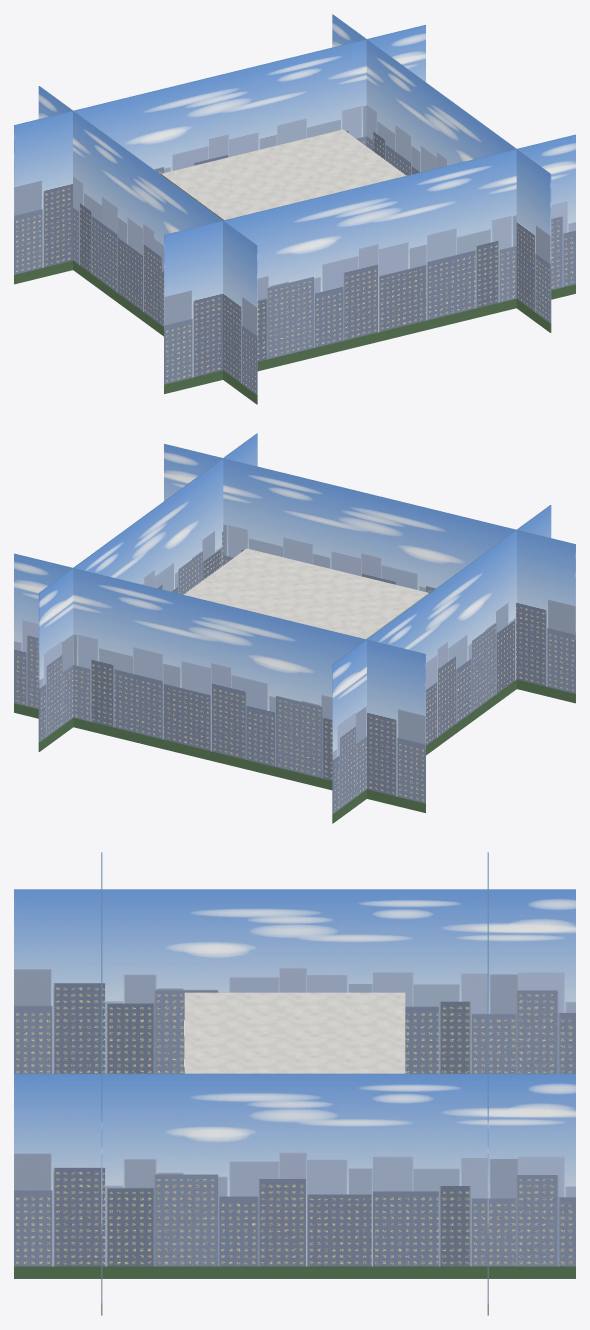
File: interior.glb
3 renders of one model, top to bottom at view 1: azimuth 30°, elevation 25°; view 2: azimuth 150°, elevation 25°; view 3: azimuth 270°, elevation 25°, orthographic. The views are drawn at different scales.
Visible parts, largest first — view 1: Sky_Front, Sky_Back, Sky_West, Sky_East, Ceiling; view 2: Sky_Back, Sky_Front, Sky_West, Sky_East, Ceiling; view 3: Sky_East, Sky_West, Ceiling, Sky_Back, Sky_Front.
Boxes of the visible parts, left/top/right/bottom form: Sky_Front: left=164, top=134, right=575, bottom=393; Sky_Back: left=14, top=25, right=425, bottom=284; Sky_West: left=38, top=86, right=257, bottom=404; Sky_East: left=332, top=14, right=551, bottom=332; Ceiling: left=161, top=129, right=406, bottom=220; Sky_Back: left=14, top=553, right=425, bottom=812; Sky_Front: left=164, top=444, right=575, bottom=703; Sky_West: left=332, top=505, right=551, bottom=823; Sky_East: left=38, top=433, right=257, bottom=751; Ceiling: left=183, top=548, right=428, bottom=639; Sky_East: left=14, top=1073, right=575, bottom=1278; Sky_West: left=14, top=889, right=575, bottom=1073; Ceiling: left=184, top=992, right=405, bottom=1073; Sky_Back: left=487, top=852, right=488, bottom=1315; Sky_Front: left=101, top=852, right=102, bottom=1315.
Size of the model in its own units: 24.4 by 9 by 22.4.
Materials: 21 (21 with a texture image).
